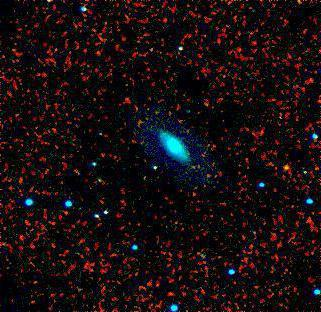star: (272, 154, 302, 184)
